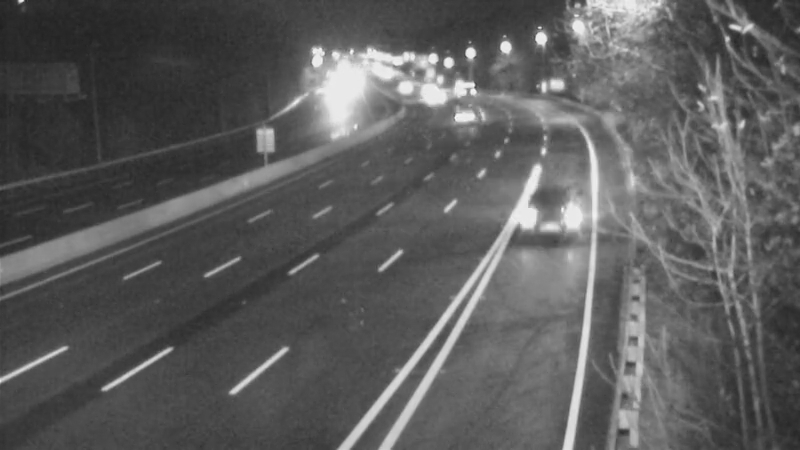vehicle: (508, 179, 588, 259), (436, 58, 486, 108), (373, 60, 423, 110), (399, 63, 449, 113), (409, 70, 459, 120), (433, 87, 483, 137), (310, 73, 360, 123)
